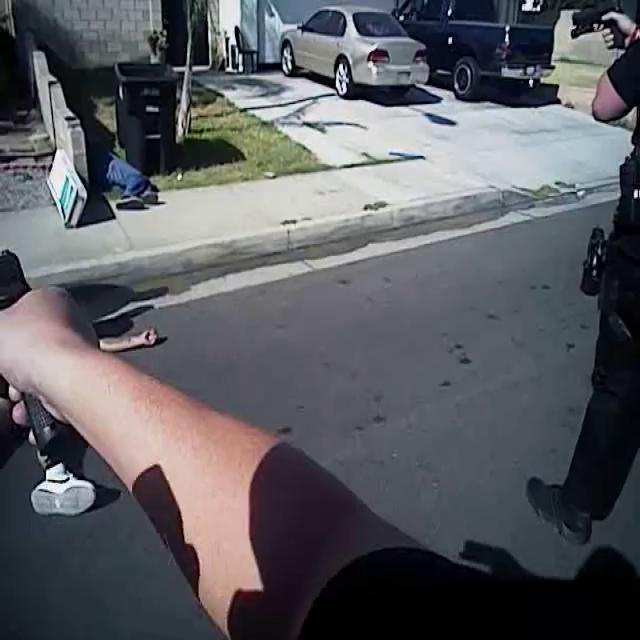gun: (0, 240, 80, 474), (564, 1, 632, 59)
